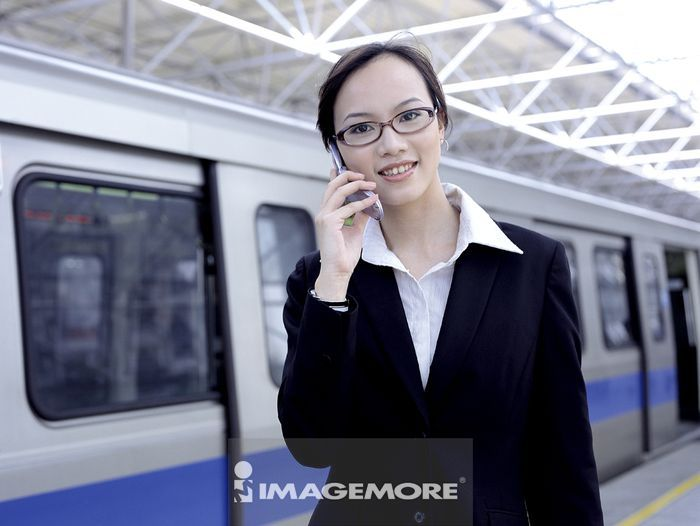talk: (316, 96, 435, 276)
